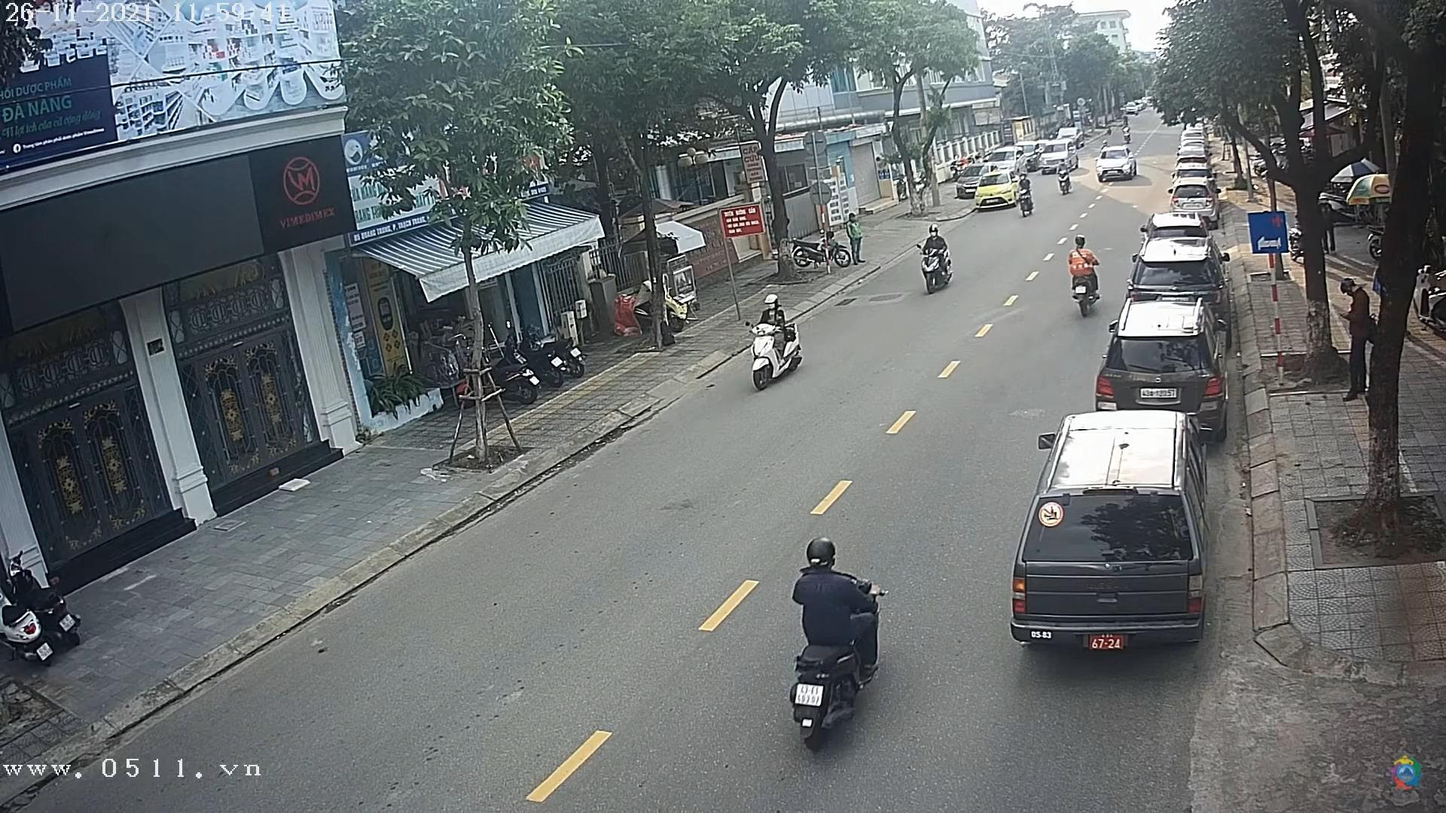car: (1015, 414, 1209, 650), (1099, 301, 1225, 421), (1133, 236, 1217, 288), (1095, 148, 1140, 184)
motorbike: (789, 611, 882, 753), (746, 318, 804, 390), (1068, 262, 1106, 316), (921, 245, 953, 299)
